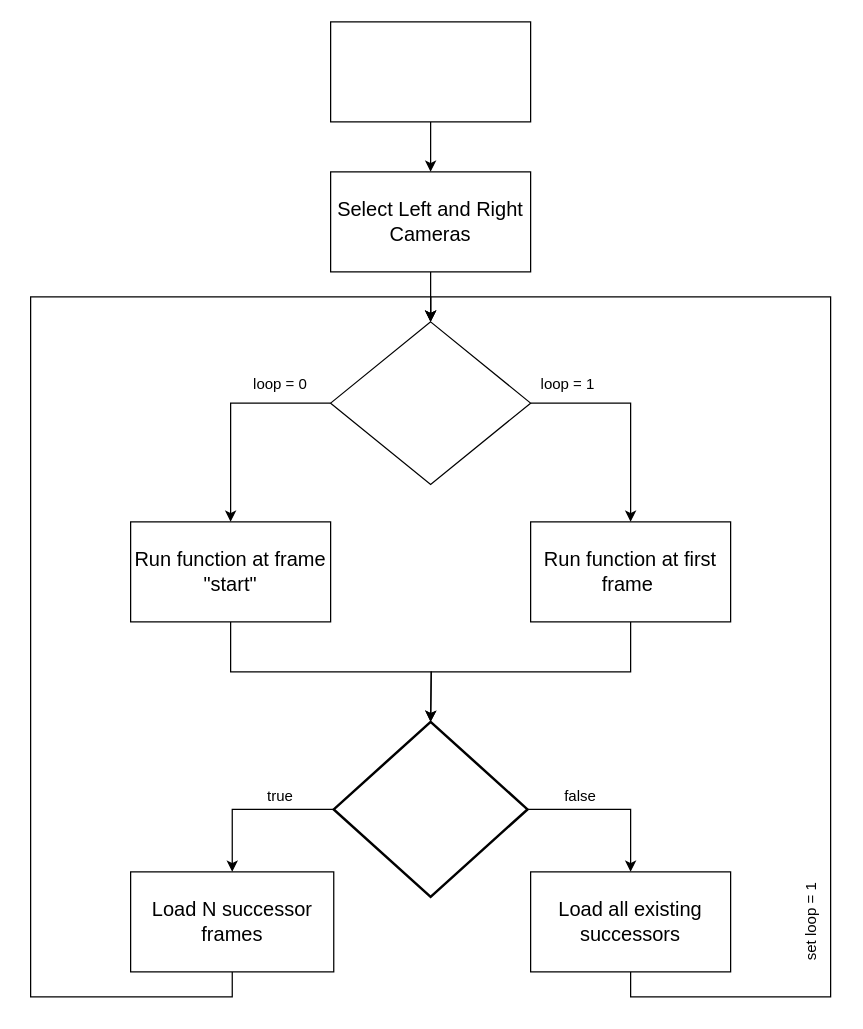
This 863x1029 diagram has some shape labels left out. Each missing label, with the centre of its shape:
"Check for loop value" belongs at (430,402).
"Check for N frames availability" belongs at (430,809).
"Select function parameters(src, start, N)" belongs at (430,71).
